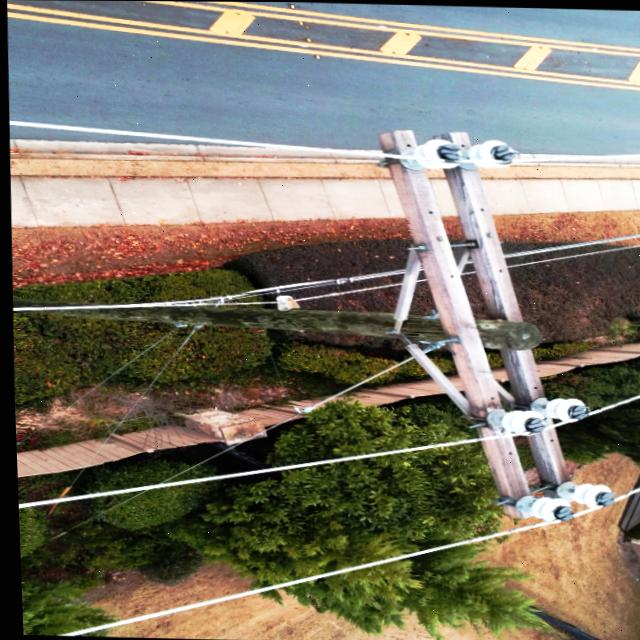poles: (90, 160, 608, 521), (447, 131, 507, 160), (378, 129, 414, 153)
wires: (97, 519, 556, 627), (15, 427, 512, 509), (9, 244, 423, 315), (280, 316, 457, 421), (7, 121, 431, 164), (291, 527, 516, 581), (500, 232, 640, 255), (578, 392, 638, 414), (54, 627, 94, 636)
